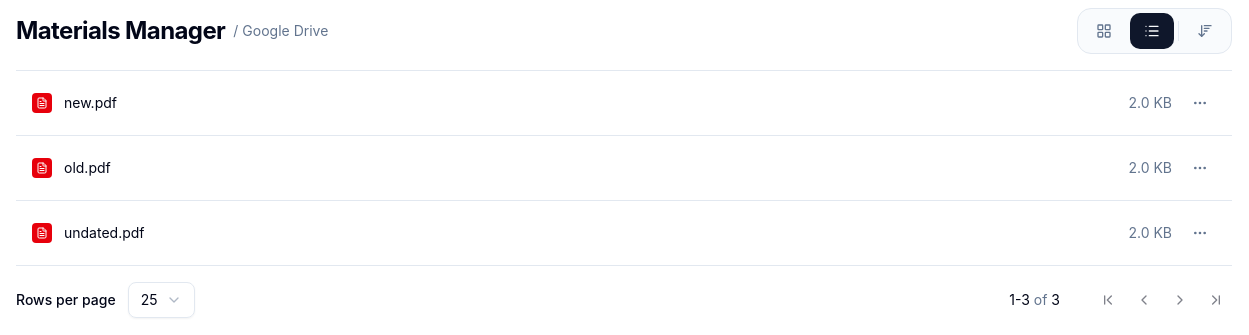
it: MaterialsPage › orders by creation date, newest first until switched
Step 1. Click the button named "Newest first" → click(1205, 31), box [1183,13,1227,49]
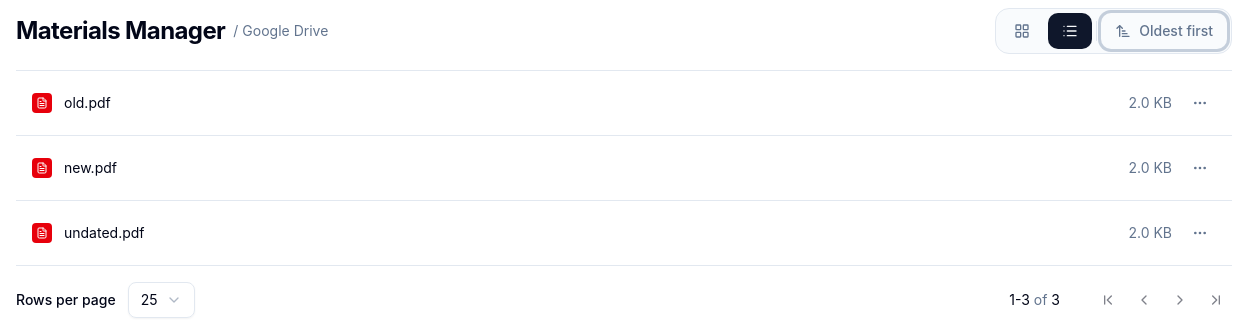
Now the button "Oldest first" is shown, box [1101,13,1227,49]
